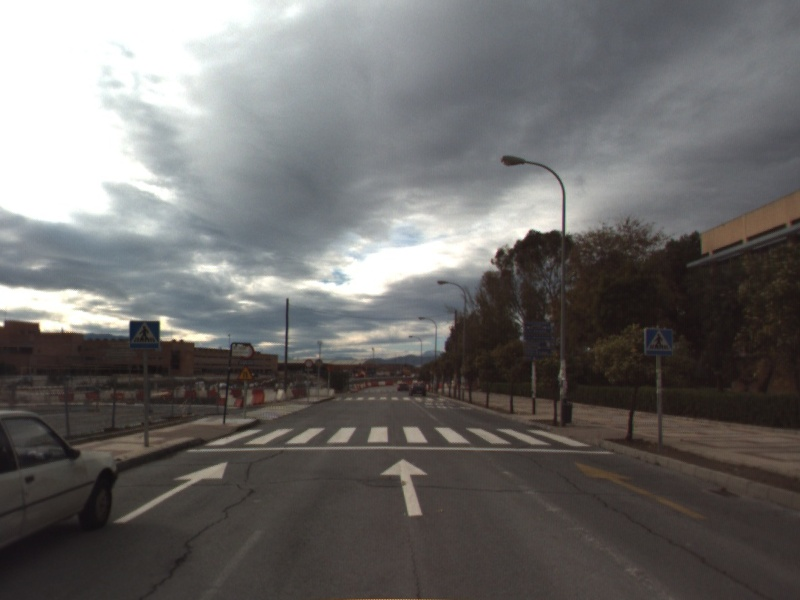STRAIGHT: (575, 461, 709, 521), (110, 460, 230, 525), (378, 456, 431, 517)
